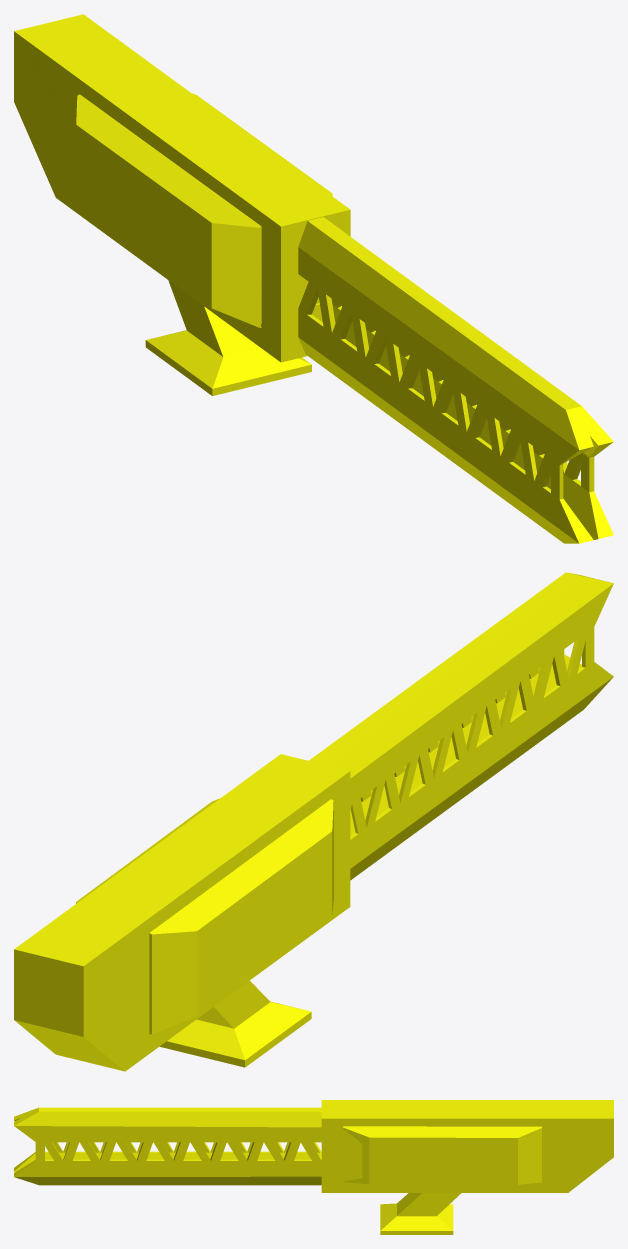
Rendered from AW_Gun_Second.fbx.
3 renders of one model, top to bottom at view 1: azimuth 30°, elevation 25°; view 2: azimuth 150°, elevation 25°; view 3: azimuth 270°, elevation 25°, orthographic. The views are drawn at different scales.
Parts seen in each view (by area): view 1: Cube.001; view 2: Cube.001; view 3: Cube.001.
Part boxes in pixels (x1,y1,x2,y2): Cube.001: [14, 14, 613, 543]; Cube.001: [14, 572, 613, 1071]; Cube.001: [14, 1100, 613, 1234].
Size of the model in its own units: 0.6069 by 0.9851 by 4.77.
